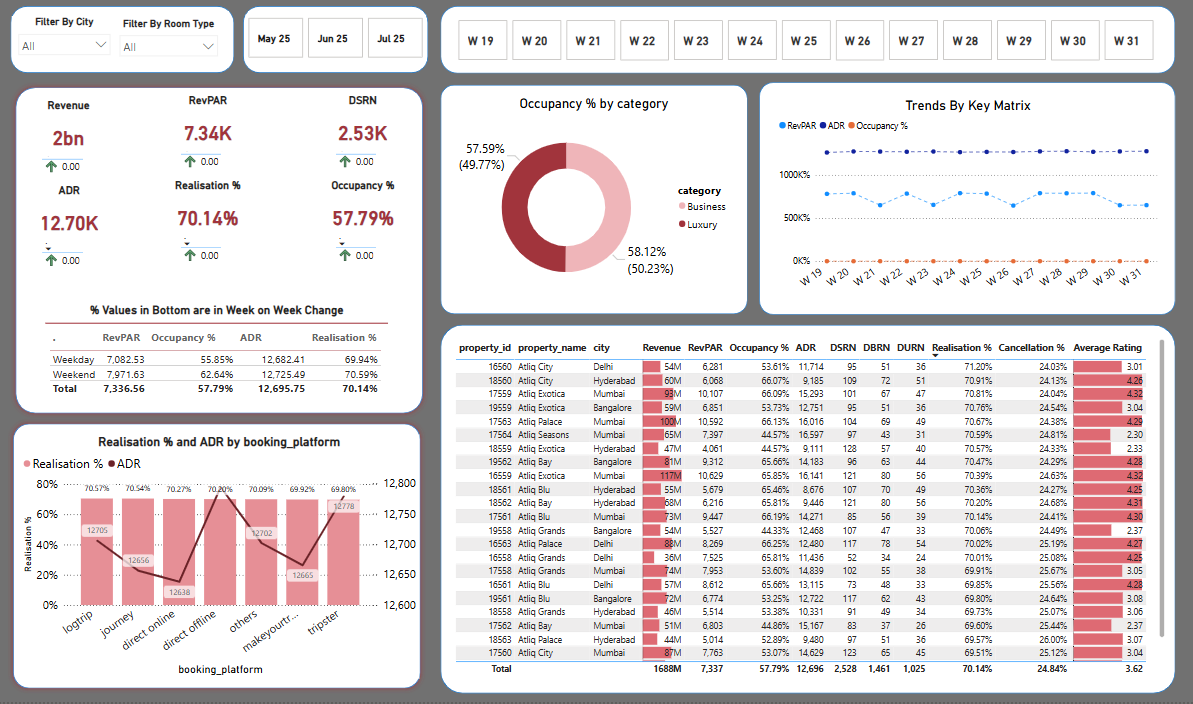

What the dashboard file says about the page in this screenshot:
{"tool":"powerbi","page":{"name":"Page 1","canvas":[1850,1150],"ordinal":0},"visuals":[{"type":"shape","box":[377.9,77.4,285.7,103.2],"z":0},{"type":"shape","box":[682.1,568.5,1133,568.5],"z":1000},{"type":"shape","box":[15.4,713,643.6,437.4],"z":2000},{"type":"shape","box":[1173.5,194.6,641.7,358.4],"z":3000},{"type":"shape","box":[682,199.1,473.7,353.9],"z":4000},{"type":"shape","box":[15.4,194.6,647.5,518.4],"z":5000},{"type":"shape","box":[682.1,77.1,1133,104.1],"z":6000},{"type":"shape","box":[18.4,77.4,344.7,103.2],"z":7000},{"type":"tableEx","title":"Revenue WoW Change","fields":{"Values":["key_measures_table.Revenue WoW change %"]},"box":[514.8,416.2,95.8,71.9],"z":8000},{"type":"tableEx","title":"Revenue WoW Change","fields":{"Values":["key_measures_table.Revenue WoW change %"]},"box":[274.8,416.2,95.8,71.9],"z":9000},{"type":"tableEx","title":"Revenue WoW Change","fields":{"Values":["key_measures_table.Revenue WoW change %"]},"box":[61.3,423.6,95.8,71.9],"z":10000},{"type":"tableEx","title":"Revenue WoW Change","fields":{"Values":["key_measures_table.Revenue WoW change %"]},"box":[514.8,271.2,95.8,71.9],"z":11000},{"type":"tableEx","title":"Revenue WoW Change","fields":{"Values":["key_measures_table.Revenue WoW change %"]},"box":[274.8,271.2,95.8,71.9],"z":12000},{"type":"cardVisual","title":"Occupancy %","fields":{"Data":["key_measures_table.Occupancy %"]},"box":[495.4,342.5,134.6,88.5],"z":13000},{"type":"tableEx","fields":{"Values":["dim_hotels.property_id","dim_hotels.property_name","dim_hotels.city","key_measures_table.Revenue","key_measures_table.RevPAR","key_measures_table.Occupancy %","key_measures_table.ADR","key_measures_table.DSRN","key_measures_table.DBRN","key_measures_table.DURN","key_measures_table.Realisation %","key_measures_table.Cancellation %"]},"box":[699.5,585.8,1104.1,528],"z":14000},{"type":"slicer","title":"Filter By Room Type","fields":{"Values":["dim_rooms.room_class"]},"box":[176.9,94,171.4,70],"z":15000},{"type":"slicer","title":"Filter By City","fields":{"Values":["dim_hotels.city"]},"box":[22.1,92.2,162.2,68.2],"z":16000},{"type":"advancedSlicerVisual","fields":{"Values":["dim_date.mmm yy"]},"box":[381.5,90.3,278.3,71.9],"z":17000},{"type":"advancedSlicerVisual","fields":{"Values":["dim_date.week no"]},"box":[705.3,94.4,1092.6,71.3],"z":18000},{"type":"tableEx","title":"Revenue WoW Change","fields":{"Values":["key_measures_table.Revenue WoW change %"]},"box":[61.3,278.6,95.8,71.9],"z":19000},{"type":"donutChart","fields":{"Category":["dim_hotels.category"],"Y":["key_measures_table.Occupancy %"]},"box":[700.4,215.7,438.7,320.7],"z":20000},{"type":"cardVisual","title":"RevPAR","fields":{"Data":["key_measures_table.RevPAR"]},"box":[255.4,211.7,134.6,88.5],"z":21000},{"type":"cardVisual","title":"DSRN","fields":{"Data":["key_measures_table.DSRN"]},"box":[495.4,211.7,134.6,88.5],"z":22000},{"type":"cardVisual","title":"ADR","fields":{"Data":["key_measures_table.ADR"]},"box":[42,349.8,134.6,88.5],"z":23000},{"type":"cardVisual","title":"Realisation %","fields":{"Data":["key_measures_table.Realisation %"]},"box":[255.4,342.5,134.6,88.5],"z":24000},{"type":"cardVisual","title":"Revenue","fields":{"Data":["key_measures_table.Revenue"]},"box":[41,219.1,136.4,88.5],"z":25000},{"type":"lineChart","title":"Trends By Key Matrix","fields":{"Category":["dim_date.week no","dim_date.mmm yy.Variation.Date Hierarchy.Month"],"Y":["key_measures_table.RevPAR","key_measures_table.ADR","key_measures_table.Occupancy %"]},"box":[1198.6,217.7,593.5,316],"z":26000},{"type":"lineStackedColumnComboChart","fields":{"Category":["fact_bookings.booking_platform"],"Y":["key_measures_table.Realisation %"],"Y2":["key_measures_table.ADR"]},"box":[32.8,738,616.6,375.8],"z":27000},{"type":"tableEx","title":"% Values in Bottom are in Week on Week Change","fields":{"Values":["dim_date.day_type","key_measures_table.RevPAR","key_measures_table.Occupancy %","key_measures_table.ADR","key_measures_table.Realisation %"]},"box":[73.2,535.7,528,152.2],"z":28000}]}

Visuals, with their boxes on the page's 1850x1150 design canvas (x1, y1, x2, y2). These are canvas units, not pixel positions in the 1193x704 screenshot, which may show the page scaled, cropped or inside an application window:
shape: {"x1": 378, "y1": 77, "x2": 664, "y2": 181}
shape: {"x1": 682, "y1": 568, "x2": 1815, "y2": 1137}
shape: {"x1": 15, "y1": 713, "x2": 659, "y2": 1150}
shape: {"x1": 1174, "y1": 195, "x2": 1815, "y2": 553}
shape: {"x1": 682, "y1": 199, "x2": 1156, "y2": 553}
shape: {"x1": 15, "y1": 195, "x2": 663, "y2": 713}
shape: {"x1": 682, "y1": 77, "x2": 1815, "y2": 181}
shape: {"x1": 18, "y1": 77, "x2": 363, "y2": 181}
"Revenue WoW Change" tableEx: {"x1": 515, "y1": 416, "x2": 611, "y2": 488}
"Revenue WoW Change" tableEx: {"x1": 275, "y1": 416, "x2": 371, "y2": 488}
"Revenue WoW Change" tableEx: {"x1": 61, "y1": 424, "x2": 157, "y2": 496}
"Revenue WoW Change" tableEx: {"x1": 515, "y1": 271, "x2": 611, "y2": 343}
"Revenue WoW Change" tableEx: {"x1": 275, "y1": 271, "x2": 371, "y2": 343}
"Occupancy %" cardVisual: {"x1": 495, "y1": 342, "x2": 630, "y2": 431}
tableEx - dim_hotels.property_id x dim_hotels.property_name: {"x1": 700, "y1": 586, "x2": 1804, "y2": 1114}
"Filter By Room Type" slicer: {"x1": 177, "y1": 94, "x2": 348, "y2": 164}
"Filter By City" slicer: {"x1": 22, "y1": 92, "x2": 184, "y2": 160}
advancedSlicerVisual - dim_date.mmm yy: {"x1": 382, "y1": 90, "x2": 660, "y2": 162}
advancedSlicerVisual - dim_date.week no: {"x1": 705, "y1": 94, "x2": 1798, "y2": 166}
"Revenue WoW Change" tableEx: {"x1": 61, "y1": 279, "x2": 157, "y2": 350}
donutChart - dim_hotels.category x key_measures_table.Occupancy %: {"x1": 700, "y1": 216, "x2": 1139, "y2": 536}
"RevPAR" cardVisual: {"x1": 255, "y1": 212, "x2": 390, "y2": 300}
"DSRN" cardVisual: {"x1": 495, "y1": 212, "x2": 630, "y2": 300}
"ADR" cardVisual: {"x1": 42, "y1": 350, "x2": 177, "y2": 438}
"Realisation %" cardVisual: {"x1": 255, "y1": 342, "x2": 390, "y2": 431}
"Revenue" cardVisual: {"x1": 41, "y1": 219, "x2": 177, "y2": 308}
"Trends By Key Matrix" lineChart: {"x1": 1199, "y1": 218, "x2": 1792, "y2": 534}
lineStackedColumnComboChart - fact_bookings.booking_platform x key_measures_table.Realisation %: {"x1": 33, "y1": 738, "x2": 649, "y2": 1114}
"% Values in Bottom are in Week on Week Change" tableEx: {"x1": 73, "y1": 536, "x2": 601, "y2": 688}
